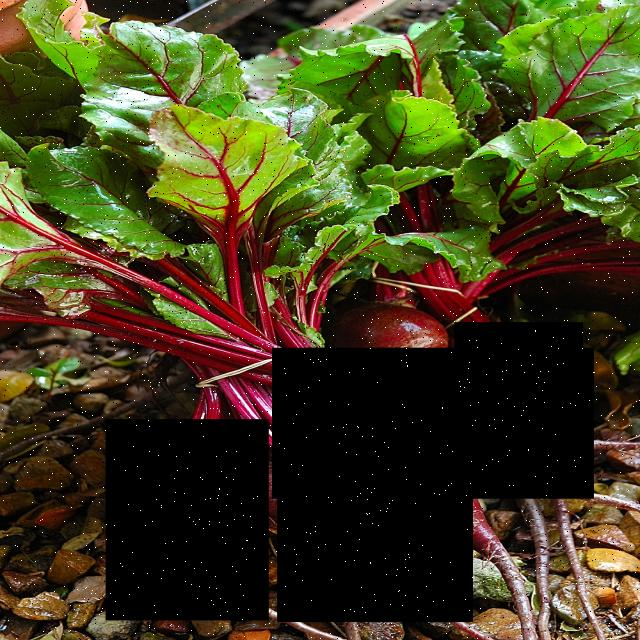Beetroot: (272, 348, 594, 499), (277, 444, 473, 622), (106, 419, 270, 621), (455, 323, 583, 441)
